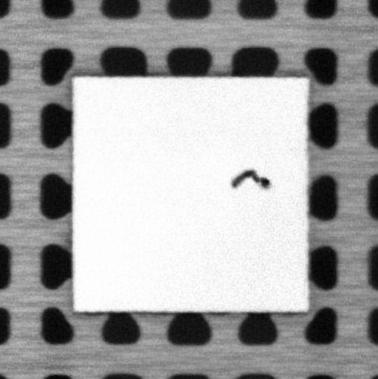DIE_INK: (227, 168, 272, 192)
